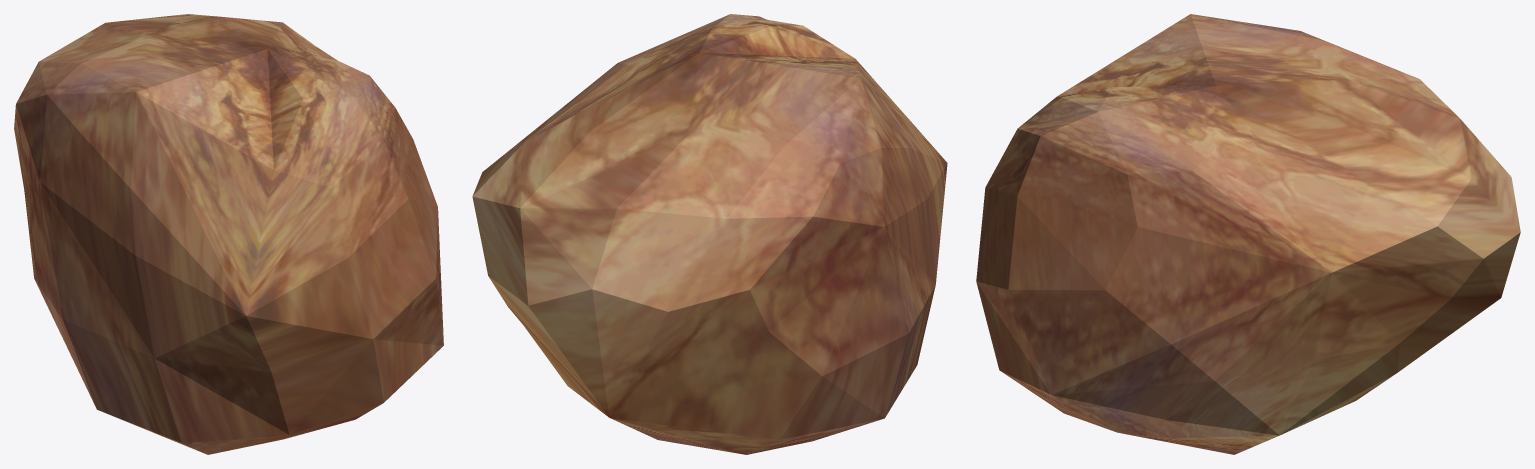
Rendered from C2SNROKB.obj.
The picture shows the model from 3 angles, left to right: view 1: azimuth 30°, elevation 25°; view 2: azimuth 150°, elevation 25°; view 3: azimuth 270°, elevation 25°; orthographic projection. The views are drawn at different scales.
Visible parts, largest first — view 1: Node 0; view 2: Node 0; view 3: Node 0.
Part boxes in pixels (bbox=[...]): Node 0: bbox=[14, 14, 443, 454]; Node 0: bbox=[472, 14, 947, 454]; Node 0: bbox=[976, 14, 1520, 454].
Size of the model in its own units: 6.84 by 6.71 by 8.97.
Materials: 1 (1 with a texture image).
